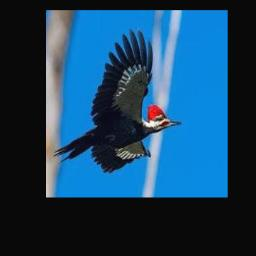Woodpecker: (53, 28, 181, 173)
